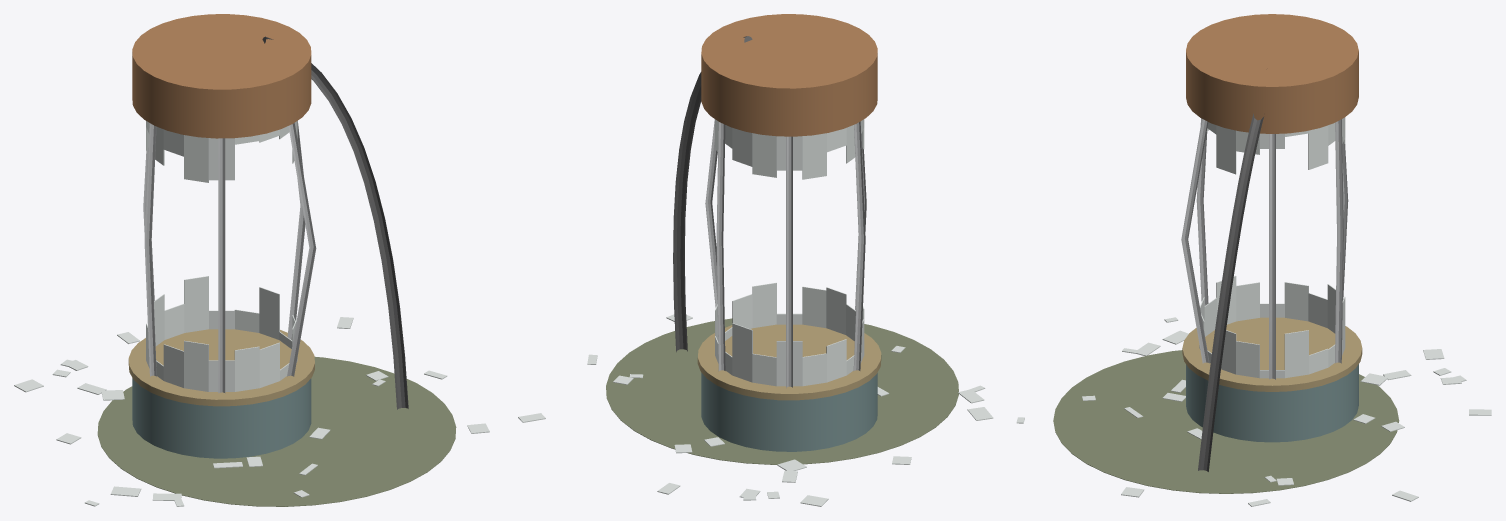
Rendered from containment_tank_broken.glb.
The picture shows the model from 3 angles, left to right: view 1: azimuth 30°, elevation 25°; view 2: azimuth 150°, elevation 25°; view 3: azimuth 270°, elevation 25°; orthographic projection. The views are drawn at different scales.
Parts seen in each view (by area): view 1: containment_tank_broken; view 2: containment_tank_broken; view 3: containment_tank_broken.
Boxes of the visible parts, box(x1,y1,x2,y2) form: containment_tank_broken: box(14, 14, 489, 506); containment_tank_broken: box(518, 14, 1024, 506); containment_tank_broken: box(1053, 14, 1491, 506).
Size of what is drawn, in the model's own units: 3.88 by 3.44 by 3.8.
